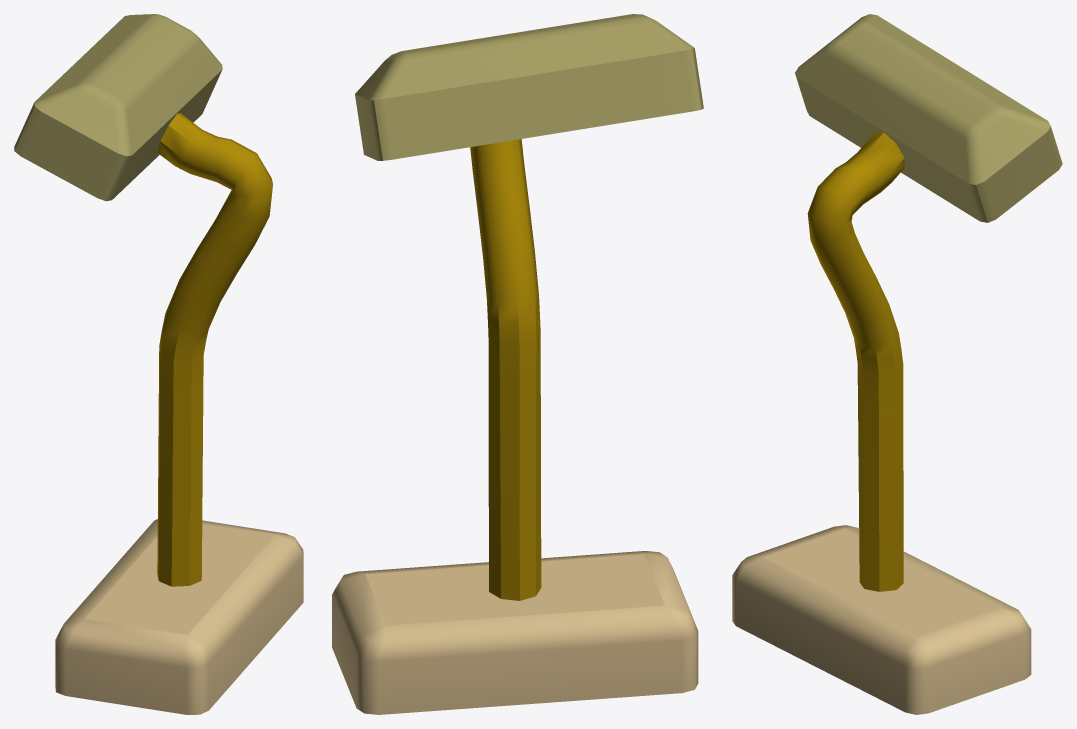
File: DeskLamp.fbx
The picture shows the model from 3 angles, left to right: view 1: azimuth 30°, elevation 25°; view 2: azimuth 150°, elevation 25°; view 3: azimuth 270°, elevation 25°; orthographic projection. The views are drawn at different scales.
Parts seen in each view (by area): view 1: DeskStandBlock, DeskStandTube, LampLight; view 2: DeskStandBlock, LampLight, DeskStandTube; view 3: DeskStandBlock, LampLight, DeskStandTube.
Boxes of the visible parts, box(x1,y1,x2,y2) form: DeskStandBlock: box(55, 519, 303, 714); DeskStandTube: box(157, 113, 272, 586); LampLight: box(14, 14, 222, 201); DeskStandBlock: box(332, 551, 698, 714); LampLight: box(355, 14, 703, 160); DeskStandTube: box(470, 139, 541, 600); DeskStandBlock: box(732, 525, 1031, 714); LampLight: box(795, 14, 1062, 222); DeskStandTube: box(807, 131, 904, 591).
Bounding box in the file's own units: 38.49 × 71.1 × 37.
